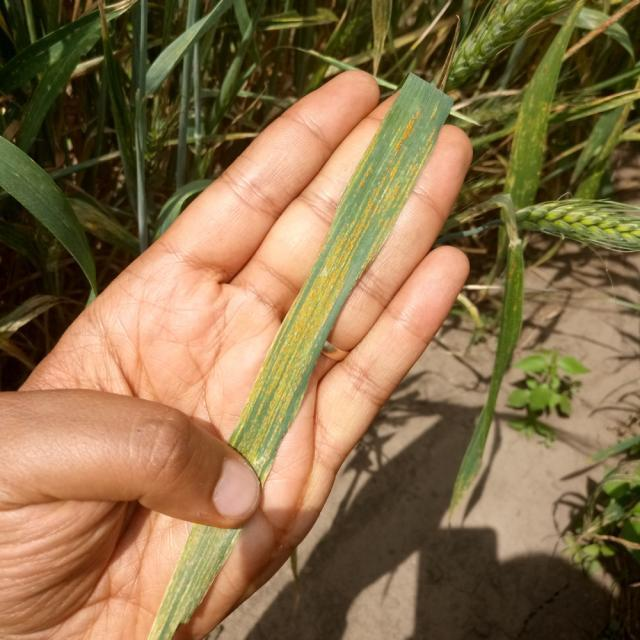Yellow Rust: (227, 74, 451, 485), (145, 527, 238, 639)
